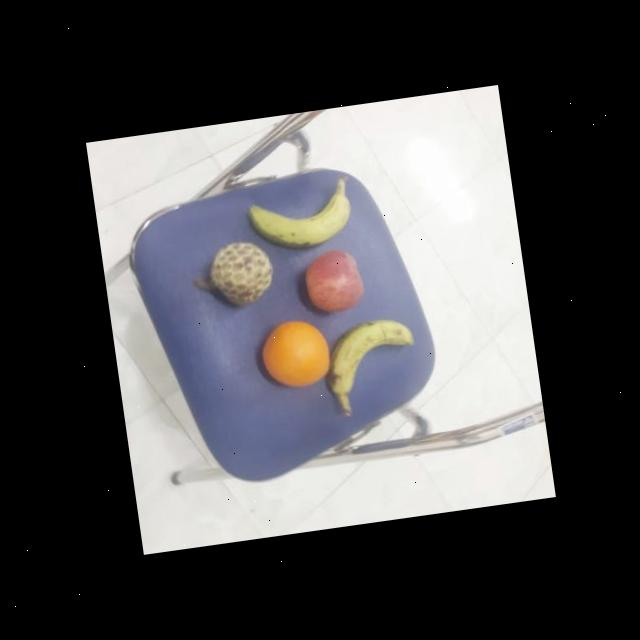Sakya fruit: (204, 235, 276, 312)
apple: (300, 245, 368, 318)
banana: (322, 310, 423, 402), (245, 186, 358, 256)
orange: (251, 317, 334, 397)
